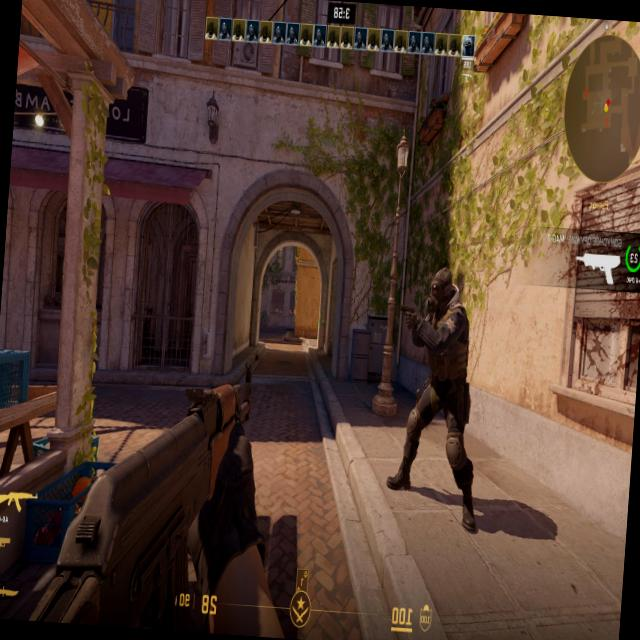CT: (421, 266, 468, 444)
CT_heat: (436, 275, 458, 316)
